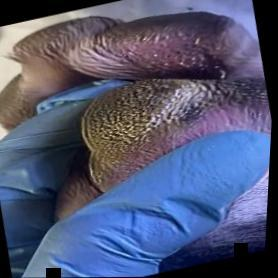keratosis: (72, 65, 242, 186)
